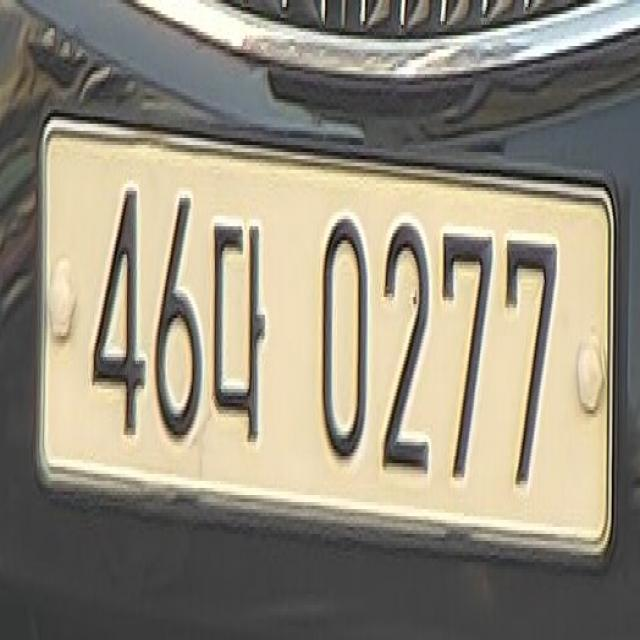0: (303, 191, 375, 473)
2: (380, 202, 440, 484)
4: (81, 162, 151, 454)
6: (155, 165, 209, 451)
7: (502, 210, 562, 498), (443, 205, 498, 489)
da: (213, 170, 274, 461)
license_plate: (28, 90, 624, 592)
